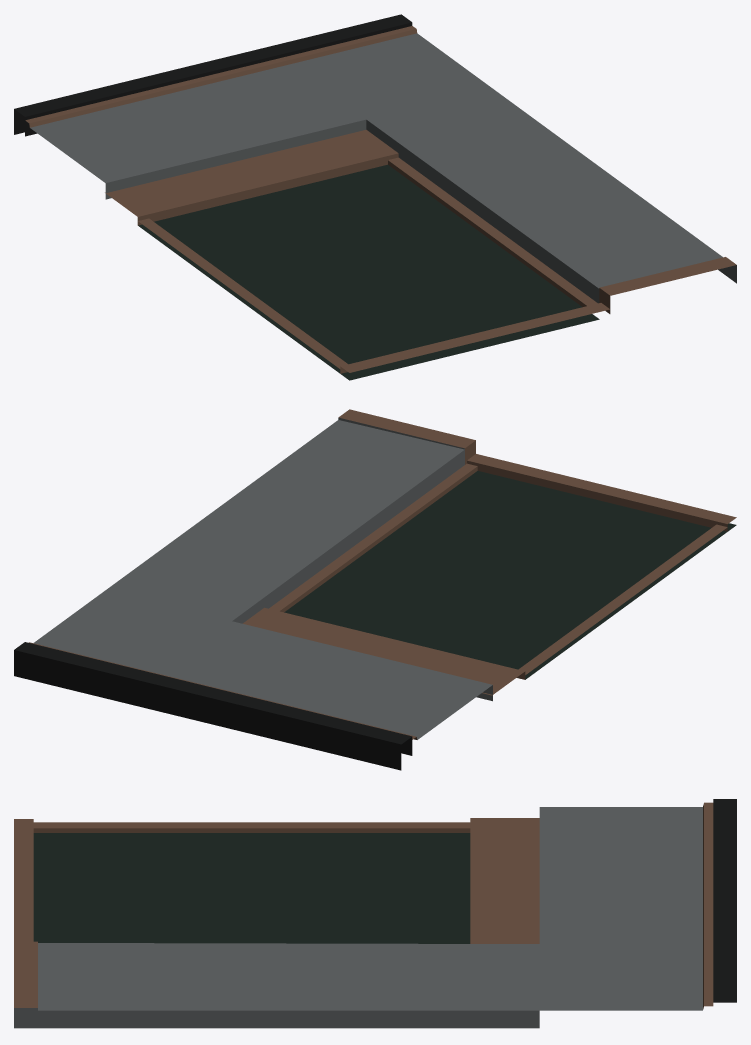
The model's file is BLD_m30_wind_40_b.fbx.
3 views of the same model, one above another, from view 1: azimuth 30°, elevation 25°; view 2: azimuth 150°, elevation 25°; view 3: azimuth 270°, elevation 25° (orthographic). The views are drawn at different scales.
Parts seen in each view (by area): view 1: BLD_m30_wind_40_b; view 2: BLD_m30_wind_40_b; view 3: BLD_m30_wind_40_b.
Part boxes in pixels (<box>): BLD_m30_wind_40_b: <box>14,14,736,380</box>; BLD_m30_wind_40_b: <box>14,409,736,770</box>; BLD_m30_wind_40_b: <box>14,799,736,1028</box>.
Size of the model in its own units: 4000 by 258 by 6000.
